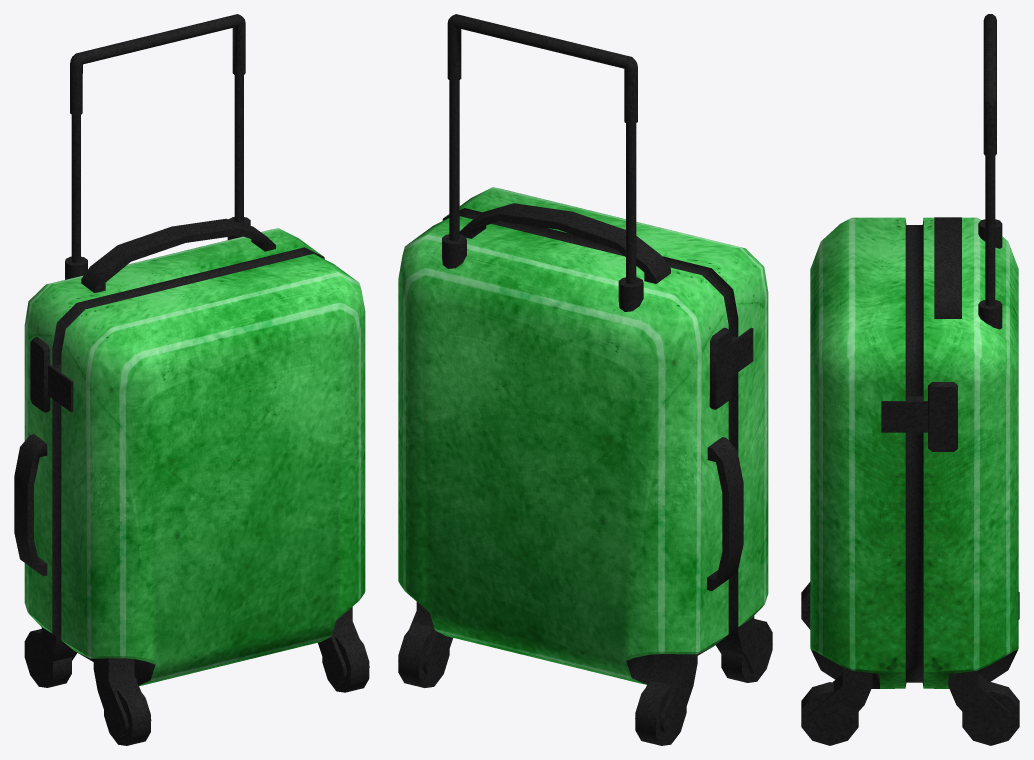
Rendered from suitcase_3.fbx.
3 views of the same model, side by side, from view 1: azimuth 30°, elevation 25°; view 2: azimuth 150°, elevation 25°; view 3: azimuth 270°, elevation 25° (orthographic). The views are drawn at different scales.
Visible parts, largest first — view 1: suitcase_3; view 2: suitcase_3; view 3: suitcase_3.
Boxes of the visible parts, <box> form: suitcase_3: <box>14,14,369,745</box>; suitcase_3: <box>398,14,772,745</box>; suitcase_3: <box>801,14,1019,745</box>.
Bounding box in the file's own units: 0.7689 × 1.52 × 0.4749.
